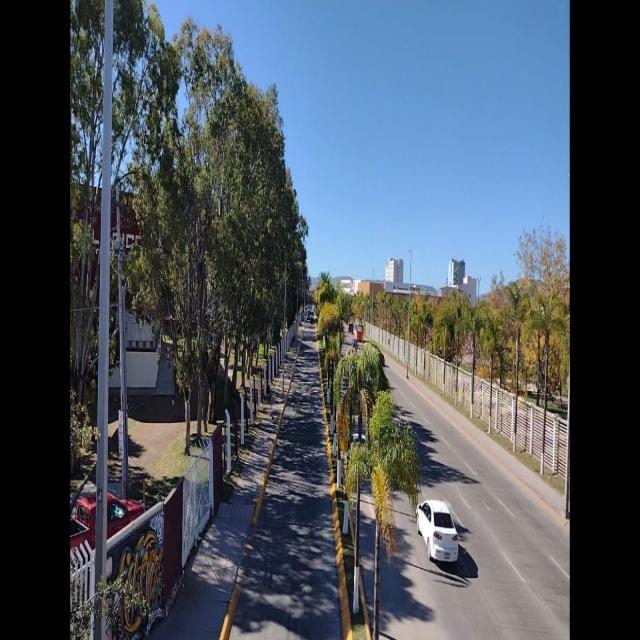Auto: (417, 498, 461, 570)
